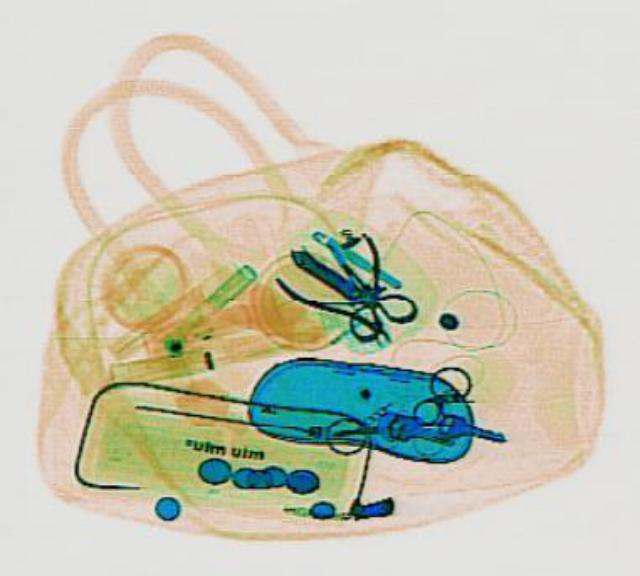Scissors: (298, 216, 424, 340)
